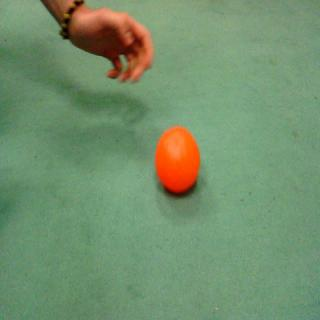orange: (154, 125, 204, 199)
